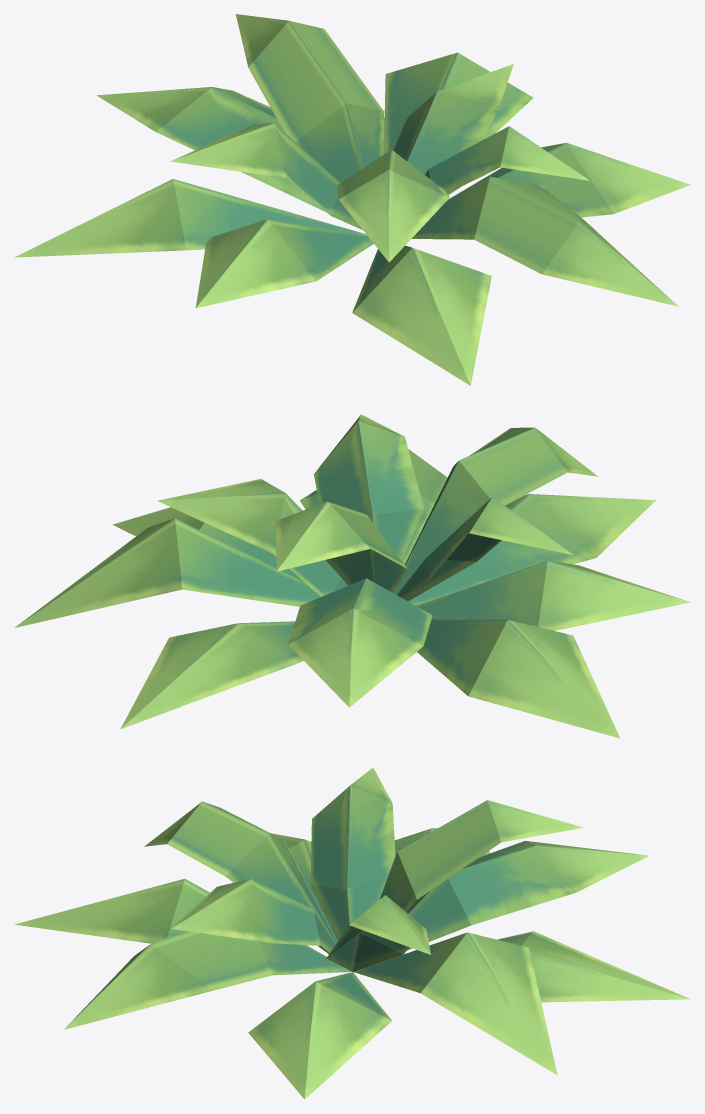
The model's file is Weed2.FBX.
3 views of the same model, one above another, from view 1: azimuth 30°, elevation 25°; view 2: azimuth 150°, elevation 25°; view 3: azimuth 270°, elevation 25° (orthographic). The views are drawn at different scales.
Visible parts, largest first — view 1: Object111; view 2: Object111; view 3: Object111.
Part boxes in pixels (x1=…): Object111: x1=14, y1=14, x2=690, y2=385; Object111: x1=15, y1=414, x2=690, y2=738; Object111: x1=14, y1=767, x2=690, y2=1099.
Size of the model in its own units: 27.33 by 7.64 by 28.96.
